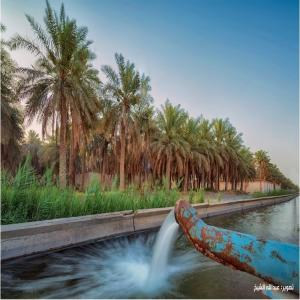palm tree: (6, 0, 102, 191), (152, 99, 190, 190), (253, 149, 269, 192)
